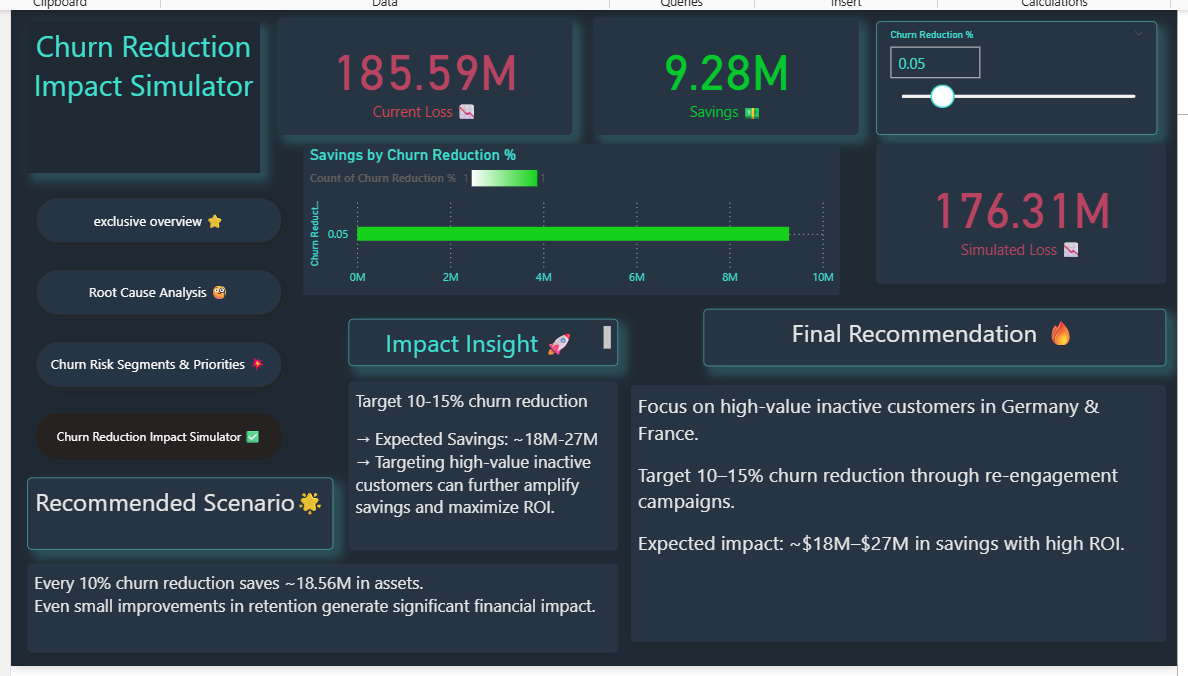

Layout of this report page (visuals, bound fields, positions):
{"tool":"powerbi","page":{"name":"Churn Reduction Impact Simulator ✅","canvas":[1280,720],"ordinal":3},"visuals":[{"type":"slicer","fields":{"Values":["Churn Reduction %.Churn Reduction %"]},"box":[949.6,12.3,308.7,124.9],"z":0},{"type":"card","fields":{"Values":["churn.Current Loss"]},"box":[307.4,6.7,324.2,129.3],"z":1000},{"type":"card","fields":{"Values":["churn.Simulated Loss"]},"box":[949.6,146.8,318.4,153.7],"z":2000},{"type":"card","fields":{"Values":["churn.Savings"]},"box":[639.5,8.2,290.9,129],"z":3000},{"type":"textbox","box":[17.8,12.3,255.2,166],"z":4000},{"type":"textbox","box":[370.5,338.9,296.4,52.1],"z":5000},{"type":"textbox","box":[17.8,607.9,649.1,97.4],"z":6000},{"type":"textbox","box":[17.8,513.2,336.2,79.6],"z":7000},{"type":"textbox","box":[370.5,407.5,296.4,185.2],"z":8000},{"type":"textbox","box":[680.6,411.7,587.3,282.7],"z":9000},{"type":"textbox","box":[760.2,328,507.7,63.1],"z":10000},{"type":"barChart","fields":{"Category":["Churn Reduction %.Churn Reduction %"],"Y":["churn.Savings"]},"box":[321.1,146.8,588.7,166],"z":11000},{"type":"pageNavigator","box":[17.8,196.2,289.5,306],"z":12000},{"type":"image","box":[320.8,28.6,92.4,87.3],"z":12001},{"type":"image","box":[646.7,28.6,67.2,68.9],"z":12002},{"type":"image","box":[949.1,193.2,85.7,72.2],"z":12003}]}

Visuals, with their boxes on the page's 1280x720 design canvas (x1, y1, x2, y2). These are canvas units, not pixel positions in the 1188x676 screenshot, which may show the page scaled, cropped or inside an application window:
slicer - Churn Reduction %.Churn Reduction %: (left=950, top=12, right=1258, bottom=137)
card - churn.Current Loss: (left=307, top=7, right=632, bottom=136)
card - churn.Simulated Loss: (left=950, top=147, right=1268, bottom=300)
card - churn.Savings: (left=640, top=8, right=930, bottom=137)
textbox: (left=18, top=12, right=273, bottom=178)
textbox: (left=370, top=339, right=667, bottom=391)
textbox: (left=18, top=608, right=667, bottom=705)
textbox: (left=18, top=513, right=354, bottom=593)
textbox: (left=370, top=408, right=667, bottom=593)
textbox: (left=681, top=412, right=1268, bottom=694)
textbox: (left=760, top=328, right=1268, bottom=391)
barChart - Churn Reduction %.Churn Reduction % x churn.Savings: (left=321, top=147, right=910, bottom=313)
pageNavigator: (left=18, top=196, right=307, bottom=502)
image: (left=321, top=29, right=413, bottom=116)
image: (left=647, top=29, right=714, bottom=98)
image: (left=949, top=193, right=1035, bottom=265)
